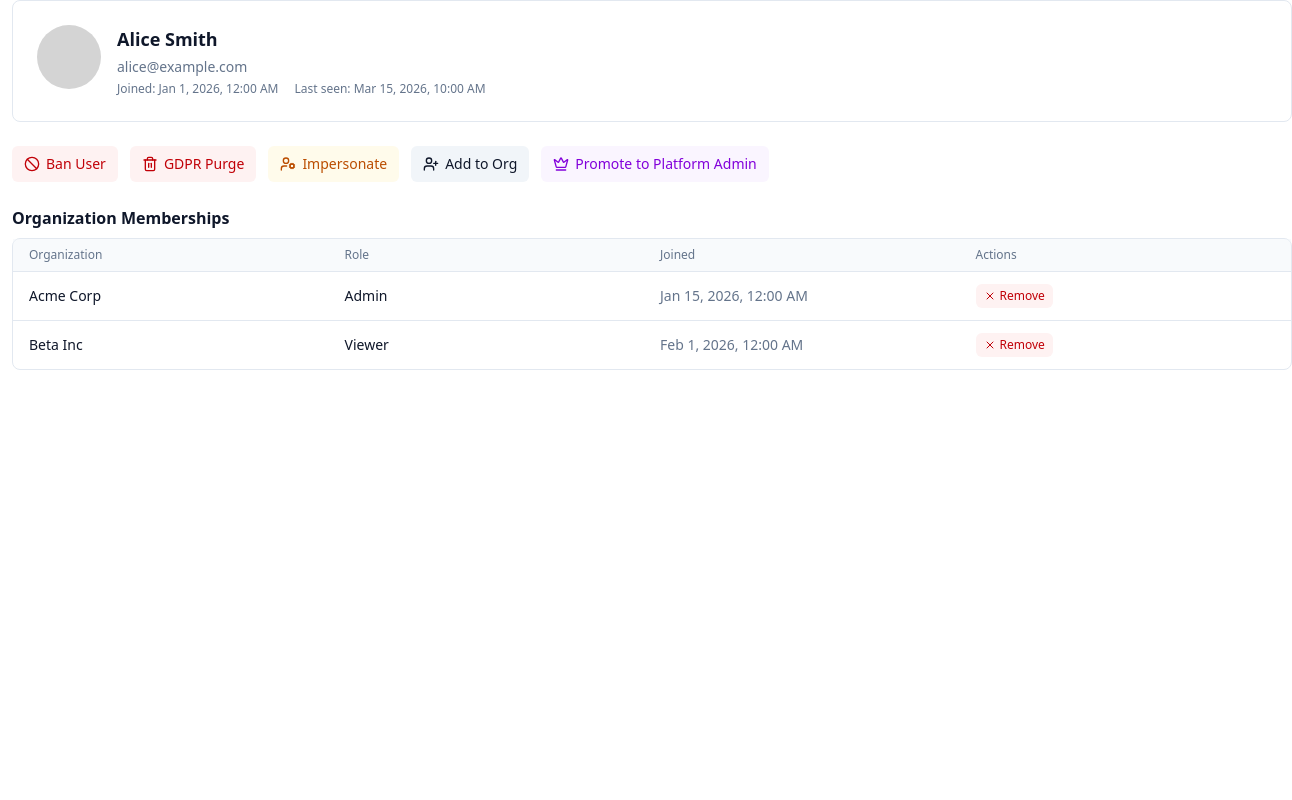
Test: UserDetail › closes ban dialog on cancel
Click the button with test id "ban-toggle-btn".
click(65, 164)  # box [12,146,118,182]
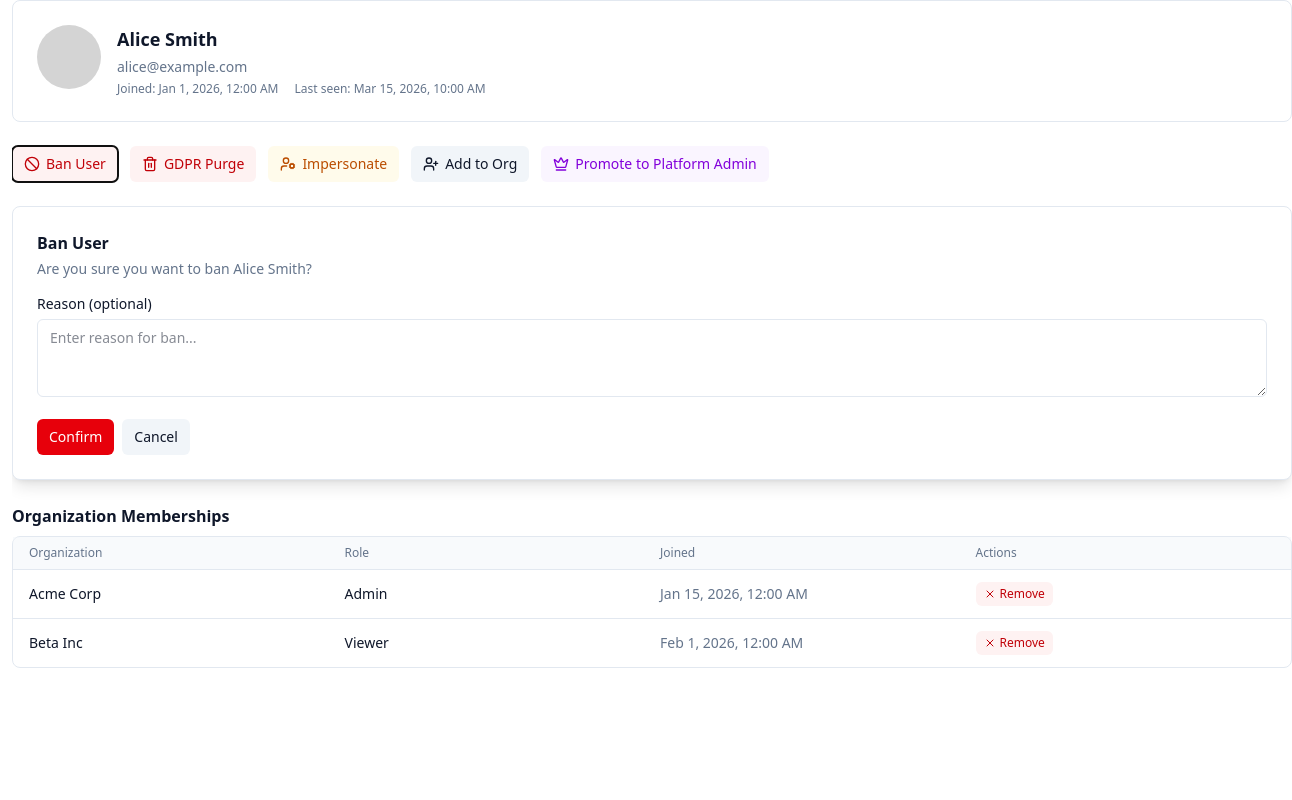
Expected: the element with test id "ban-confirm-dialog" is shown, [12,206,1291,480]
Click the button with test id "ban-cancel-btn".
click(156, 437)  # box [122,419,190,455]
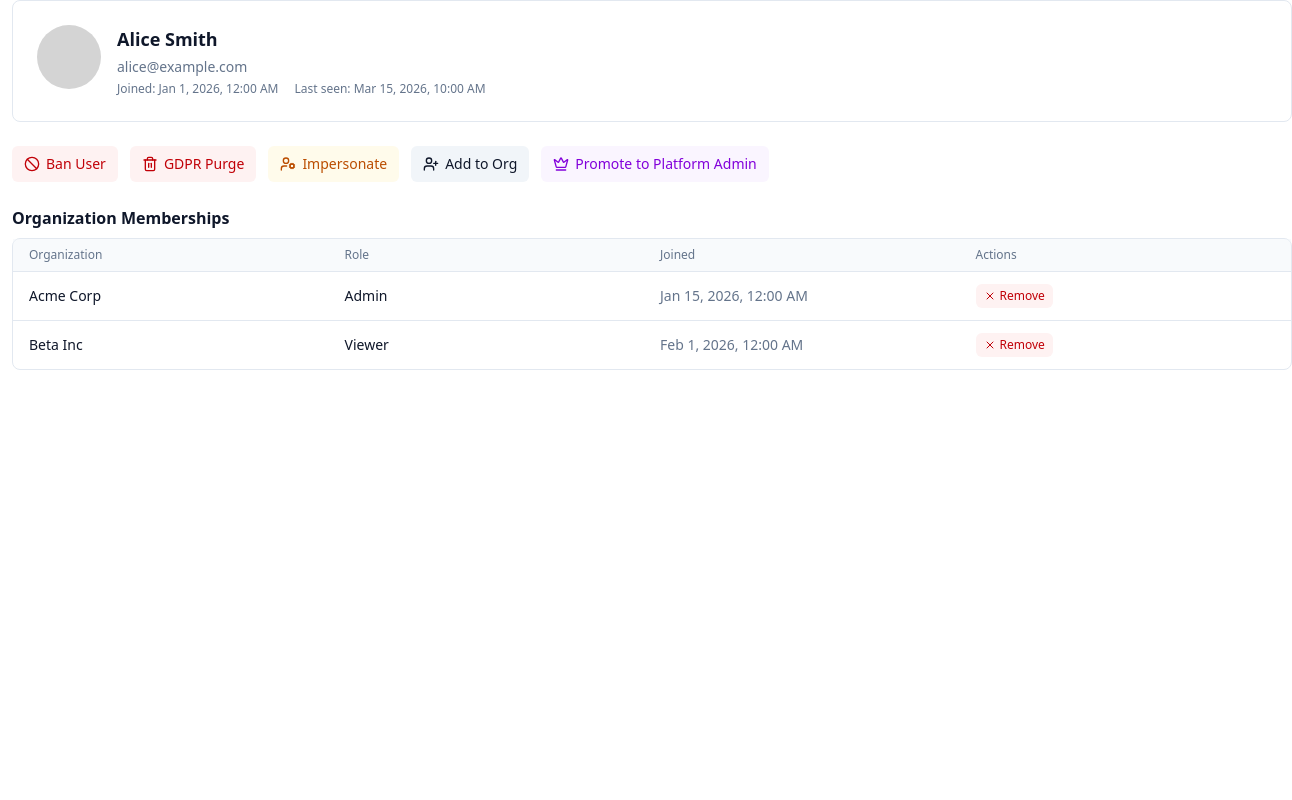
Expected: the element with test id "ban-confirm-dialog" is gone
